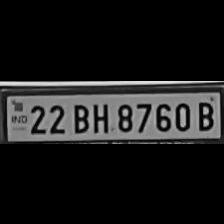0: (172, 99, 192, 130)
2: (46, 100, 66, 134), (26, 101, 46, 133)
6: (152, 99, 170, 131)
7: (133, 98, 151, 132)
8: (114, 100, 132, 132)
B: (69, 99, 89, 133), (194, 98, 214, 130)
H: (89, 98, 111, 132)
